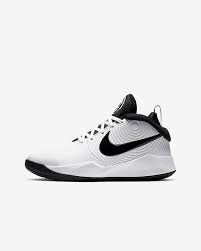nike: (99, 131, 162, 157)
